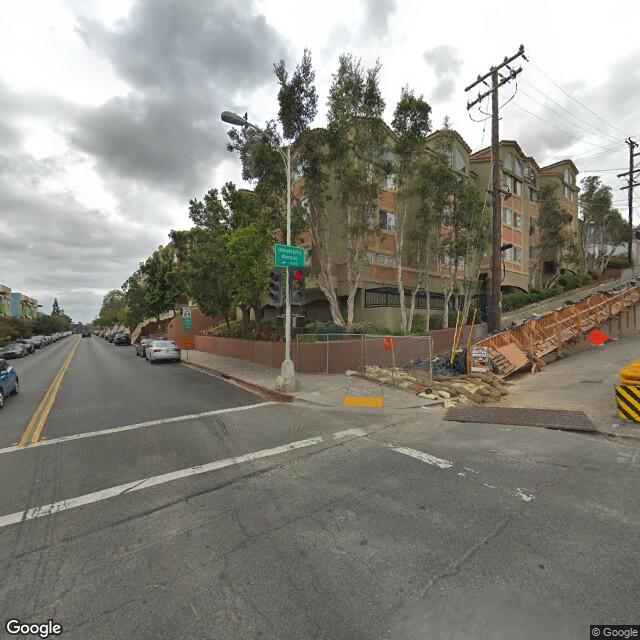light: (222, 108, 246, 126)
road line: (25, 360, 52, 443)
